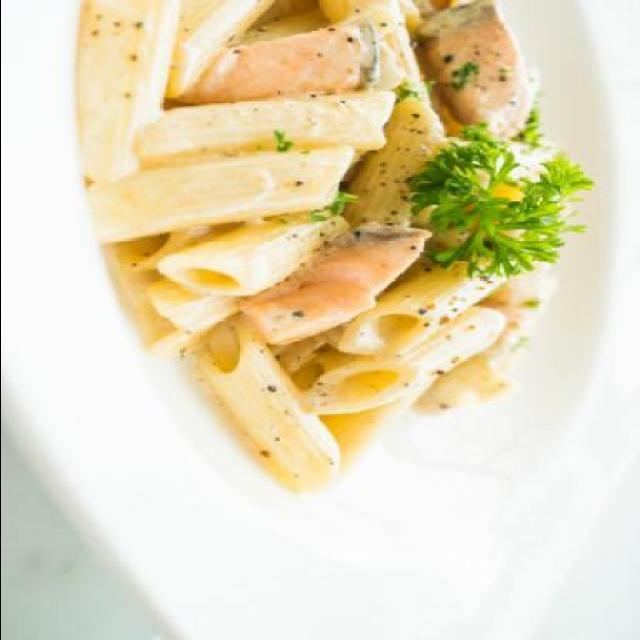Pasta with carbonara sauce: (101, 12, 604, 470)
